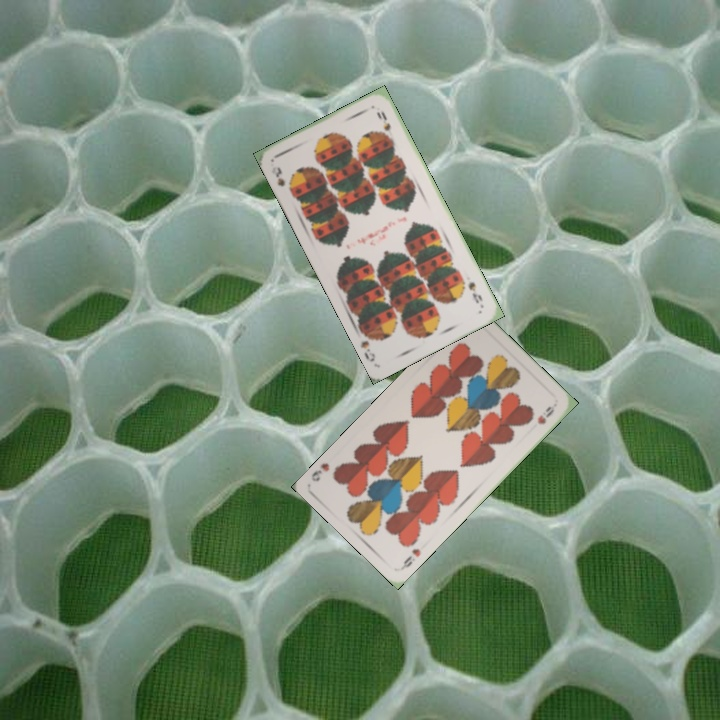H9: (398, 544, 423, 572)
S9: (271, 162, 296, 196), (464, 278, 485, 306)
